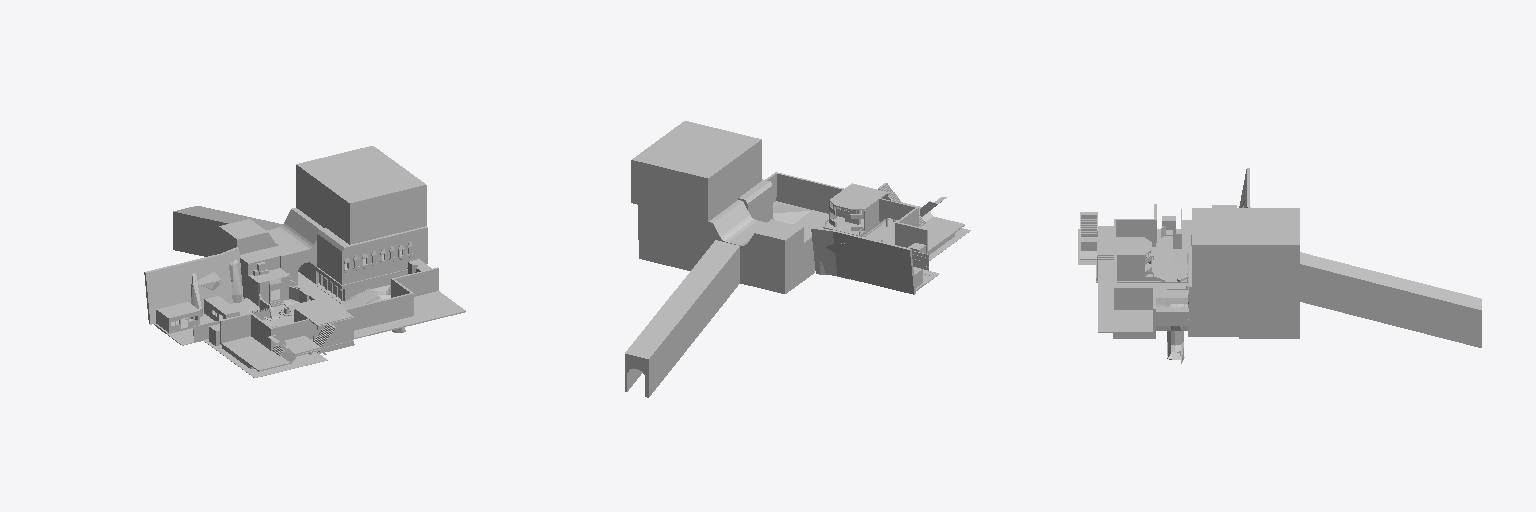
The model's file is TestLevel.obj.
3 renders of one model, left to right at view 1: azimuth 30°, elevation 25°; view 2: azimuth 150°, elevation 25°; view 3: azimuth 270°, elevation 25°, orthographic.
Parts seen in each view (by area): view 1: entity0_brush315, entity0_brush319, entity0_brush161, entity0_brush308, entity0_brush197, entity0_brush204, entity0_brush300, entity0_brush151, entity0_brush314, entity0_brush302, entity0_brush53, entity0_brush309 (+7 smaller); view 2: entity0_brush315, entity0_brush319, entity0_brush304, entity0_brush300, entity0_brush302, entity0_brush308, entity0_brush161, entity0_brush309, entity0_brush326, entity0_brush207, entity0_brush151, entity0_brush318 (+6 smaller); view 3: entity0_brush315, entity0_brush294, entity0_brush303, entity0_brush304, entity0_brush268, entity0_brush204, entity0_brush207, entity0_brush151, entity0_brush202, entity0_brush199, entity0_brush53, entity0_brush208 (+1 smaller).
Boxes of the visible parts, x1=… form: entity0_brush315: x1=296, y1=146, x2=426, y2=244; entity0_brush319: x1=144, y1=254, x2=226, y2=324; entity0_brush161: x1=345, y1=293, x2=413, y2=330; entity0_brush308: x1=219, y1=219, x2=274, y2=254; entity0_brush197: x1=220, y1=336, x2=289, y2=371; entity0_brush204: x1=412, y1=291, x2=465, y2=322; entity0_brush300: x1=173, y1=210, x2=266, y2=239; entity0_brush151: x1=295, y1=299, x2=353, y2=325; entity0_brush314: x1=317, y1=234, x2=344, y2=284; entity0_brush302: x1=173, y1=230, x2=218, y2=256; entity0_brush53: x1=207, y1=343, x2=327, y2=377; entity0_brush309: x1=219, y1=243, x2=279, y2=281; entity0_brush315: x1=631, y1=121, x2=761, y2=221; entity0_brush319: x1=833, y1=230, x2=915, y2=294; entity0_brush304: x1=638, y1=200, x2=749, y2=254; entity0_brush300: x1=644, y1=245, x2=739, y2=377; entity0_brush302: x1=645, y1=265, x2=739, y2=397; entity0_brush308: x1=747, y1=220, x2=803, y2=255; entity0_brush161: x1=775, y1=172, x2=843, y2=208; entity0_brush309: x1=754, y1=233, x2=813, y2=274; entity0_brush326: x1=754, y1=255, x2=814, y2=293; entity0_brush207: x1=639, y1=240, x2=702, y2=270; entity0_brush151: x1=829, y1=183, x2=887, y2=210; entity0_brush318: x1=811, y1=228, x2=836, y2=275; entity0_brush315: x1=1192, y1=208, x2=1299, y2=288; entity0_brush294: x1=1300, y1=262, x2=1481, y2=328; entity0_brush303: x1=1300, y1=283, x2=1481, y2=347; entity0_brush304: x1=1239, y1=289, x2=1299, y2=319; entity0_brush268: x1=1189, y1=281, x2=1238, y2=323; entity0_brush204: x1=1098, y1=309, x2=1155, y2=332; entity0_brush207: x1=1239, y1=320, x2=1299, y2=338; entity0_brush151: x1=1098, y1=237, x2=1151, y2=255; entity0_brush202: x1=1117, y1=287, x2=1155, y2=309; entity0_brush199: x1=1114, y1=219, x2=1156, y2=241; entity0_brush53: x1=1078, y1=229, x2=1172, y2=264; entity0_brush208: x1=1188, y1=324, x2=1238, y2=336.
Size of the model in its own units: 3584 by 1957 by 4944.